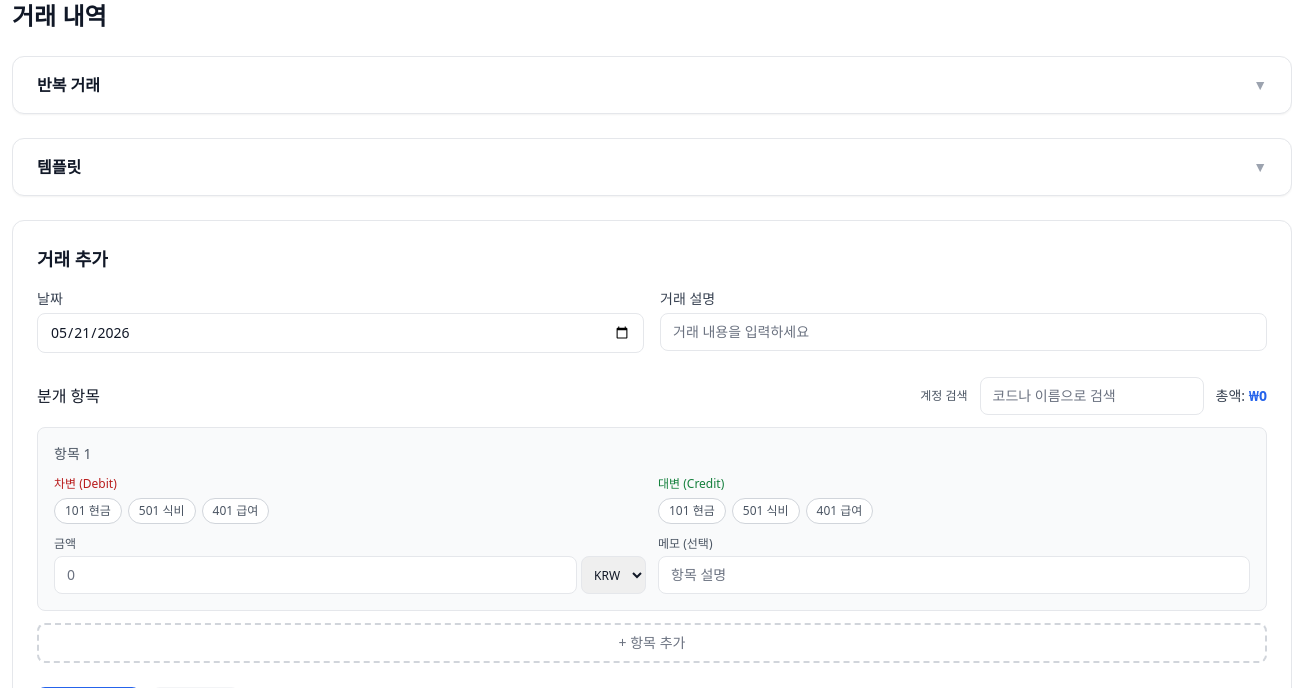
Test: RecurringTransactionsPage (반복 거래 탭) › 반복 거래 탭 전환 후 폼과 목록을 렌더링한다
Click the button "반복 거래 ▼". click: (69, 85)
box: [13,57,1291,113]
(page scrolled)
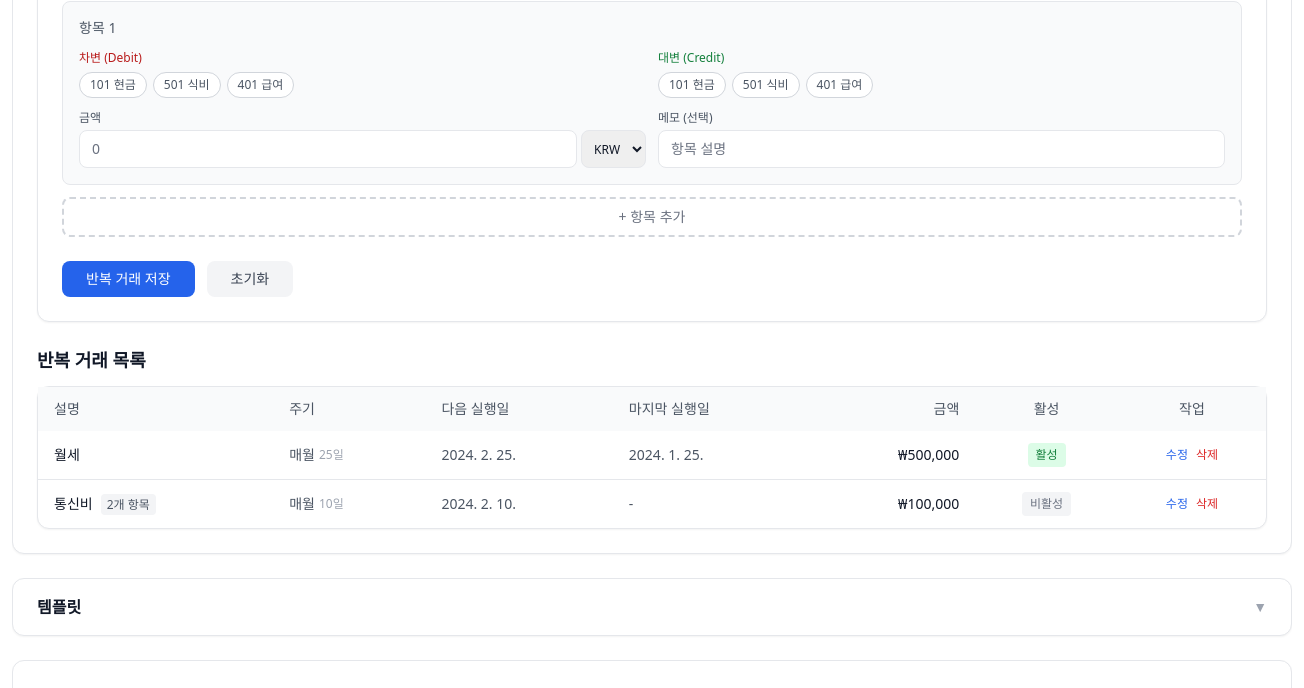
Expected: the heading "반복 거래 목록" is shown, [37,348,146,372]
